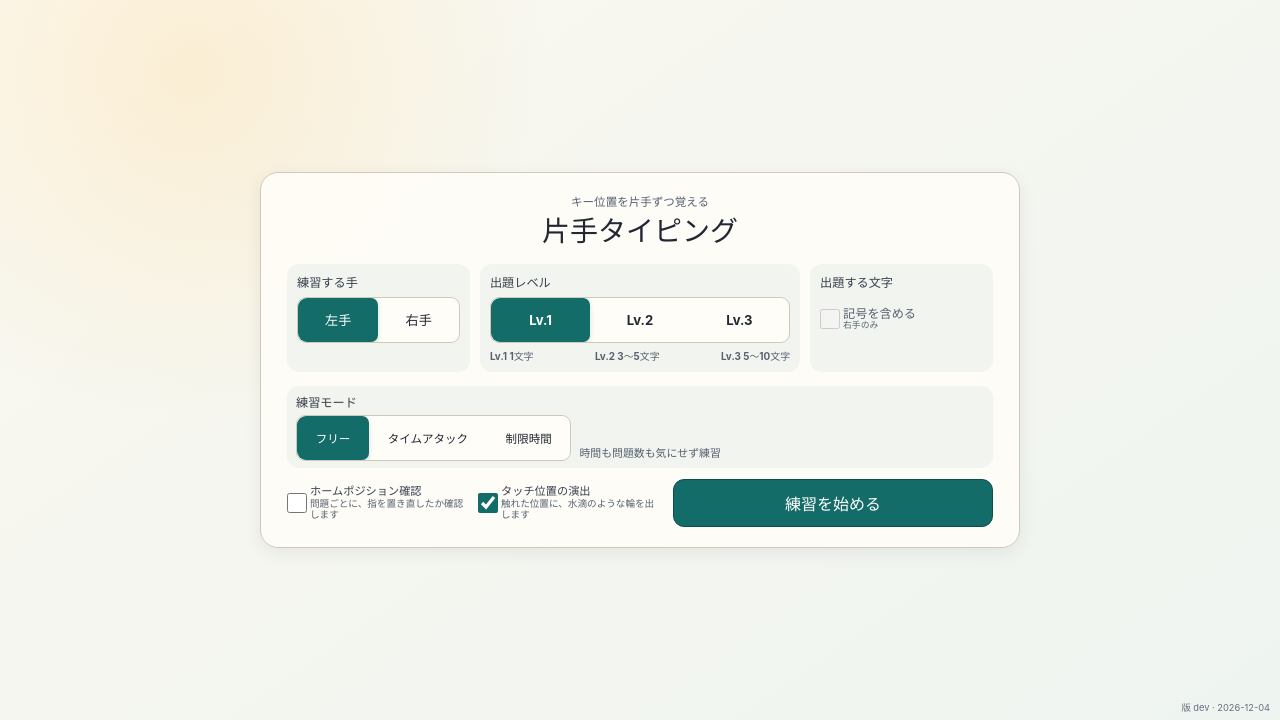
設定・練習・結果の3画面 › 途中の問題を含めて今回の値とKPMを表示する
The width and height of the screenshot is (1280, 720).
Click the button with test id "level-2": x=640, y=320 590,298 -> 690,342
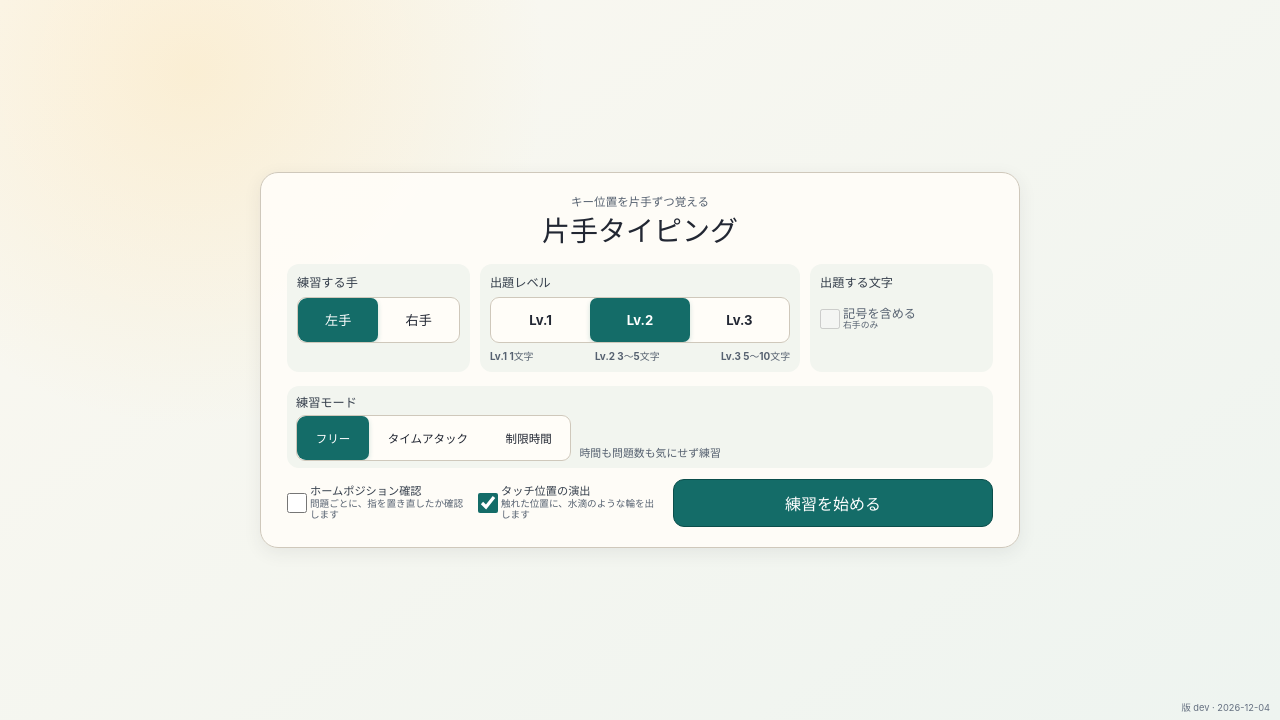
Click the button with test id "start-practice": x=833, y=503 673,479 -> 993,527
Wait 2000 ms
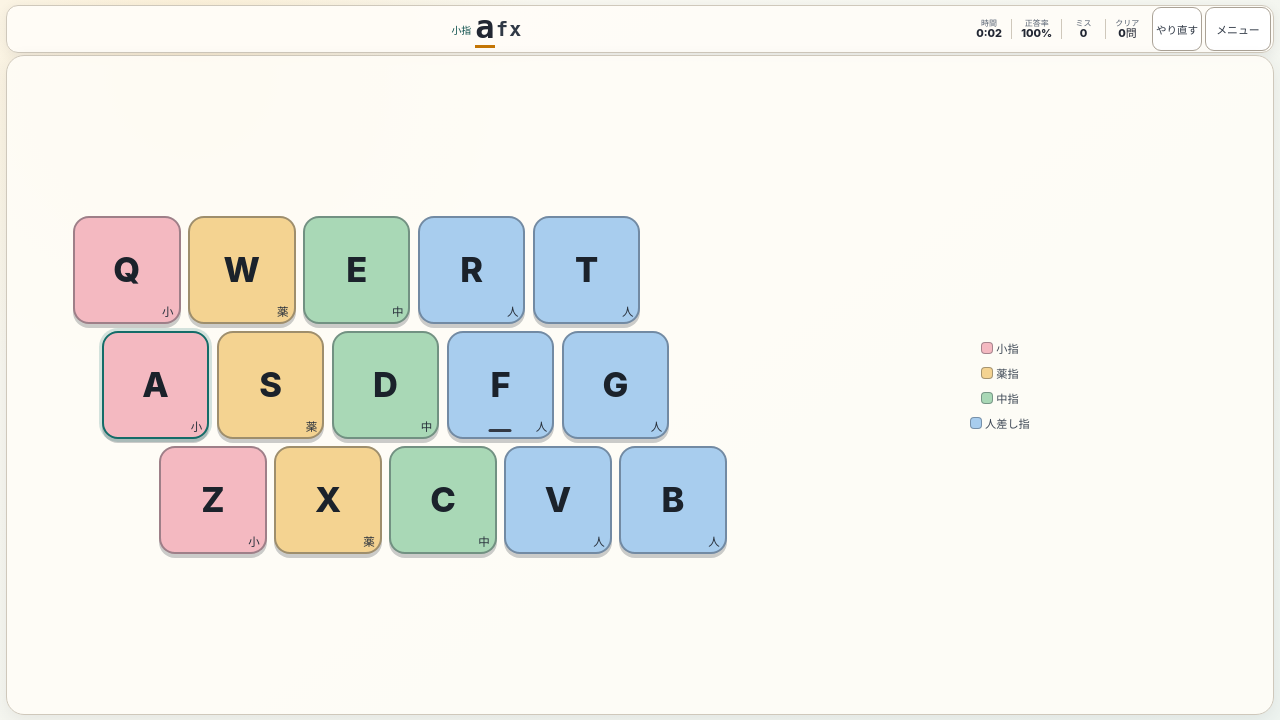
Click the button "a 小": x=156, y=385 102,331 -> 209,439
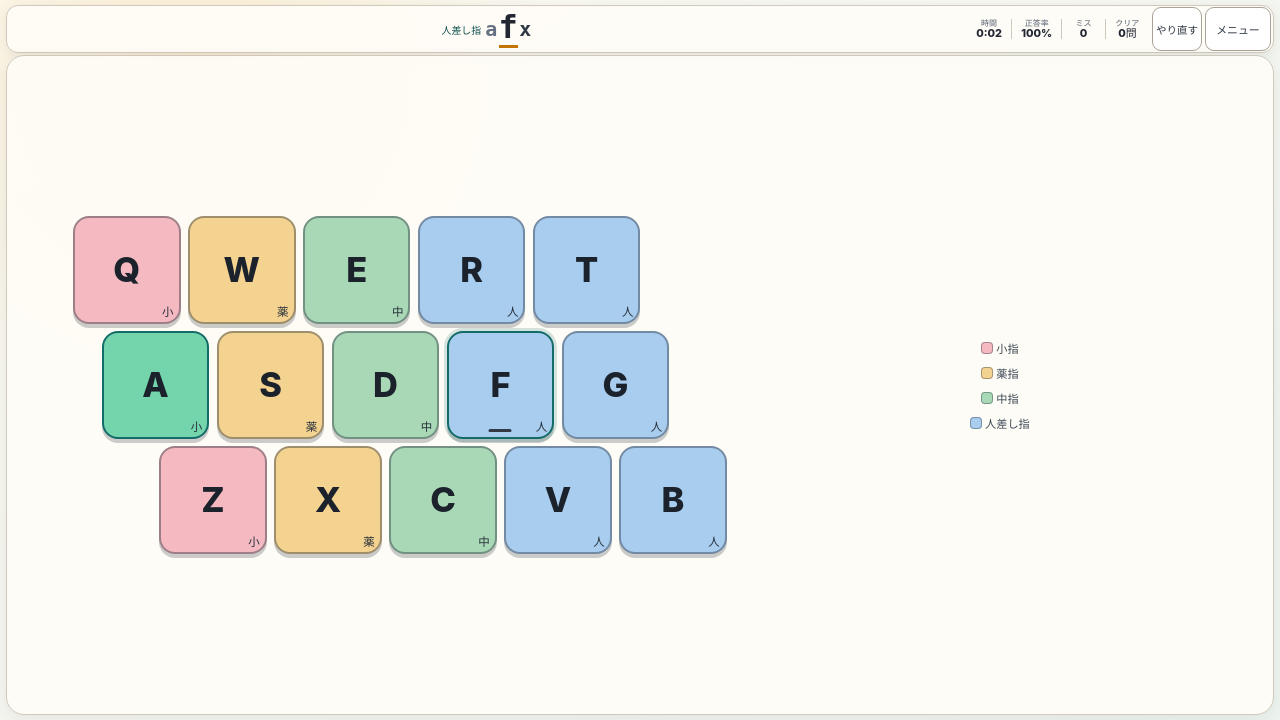
Click the button with test id "menu-button": x=1238, y=29 1205,7 -> 1271,51
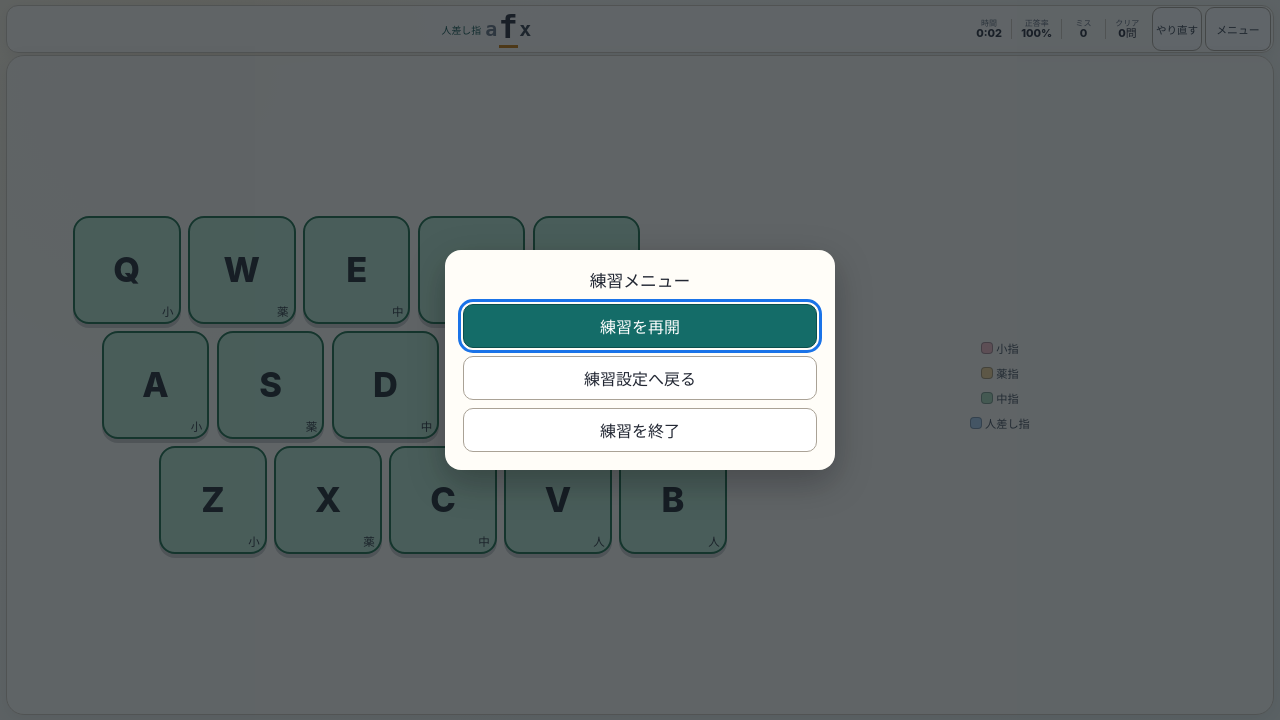
Click the button with test id "menu-finish": x=640, y=430 463,408 -> 817,452
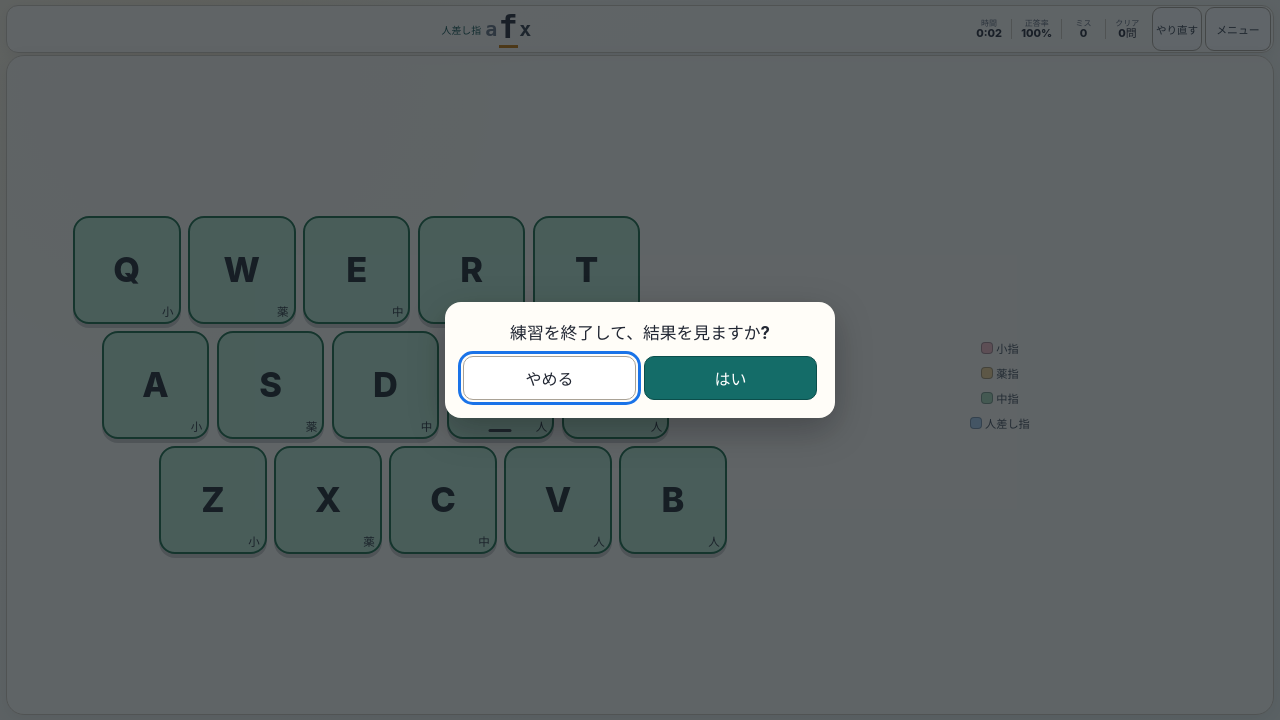
Click the button with test id "confirm-yes": x=730, y=378 644,356 -> 817,400
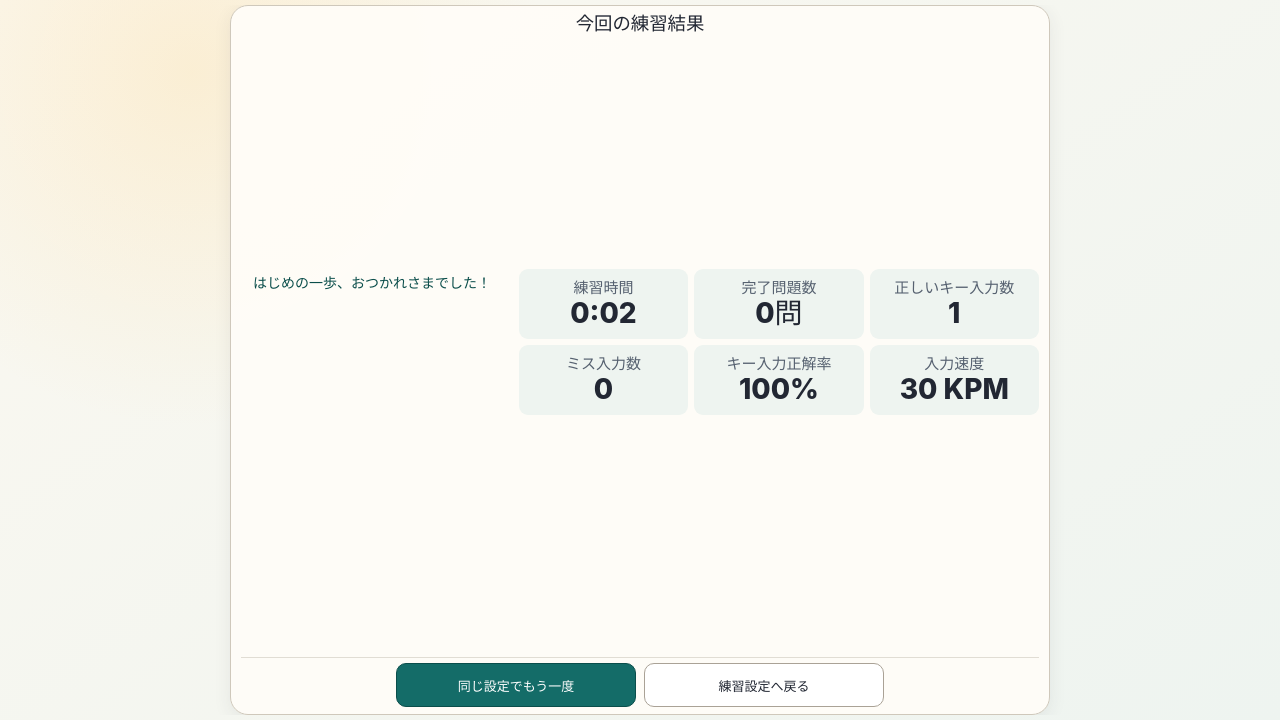
Check: the text with test id "result-time" reads "0:02", box 570,296 -> 637,330
Check: the element with test id "result-completed" reads "0問", box 755,296 -> 803,330
Check: the text with test id "result-correct" reads "1", box 948,296 -> 960,330
